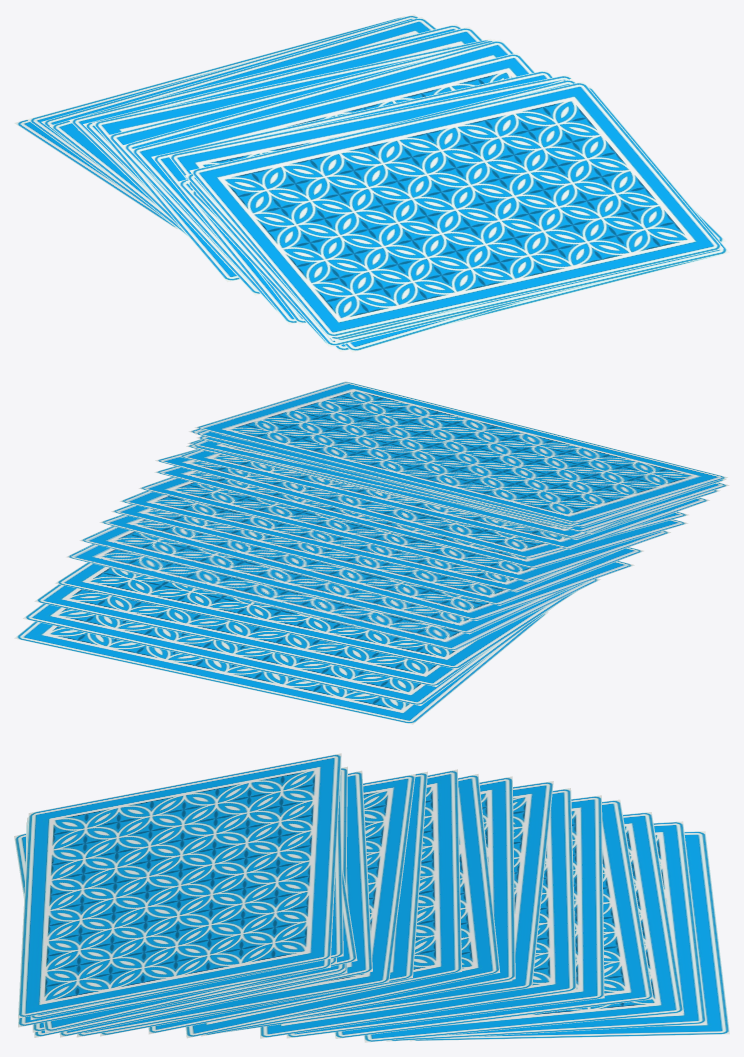
3 views of the same model, one above another, from view 1: azimuth 30°, elevation 25°; view 2: azimuth 150°, elevation 25°; view 3: azimuth 270°, elevation 25° (orthographic). The views are drawn at different scales.
Visible parts, largest first — view 1: Cards; view 2: Cards; view 3: Cards.
Part boxes in pixels (<box>): Cards: <box>14,14,729,352</box>; Cards: <box>14,381,729,724</box>; Cards: <box>14,753,729,1042</box>.
Size of the model in its own units: 1.59 by 0.287 by 2.23.
1 material, 1 textured.
